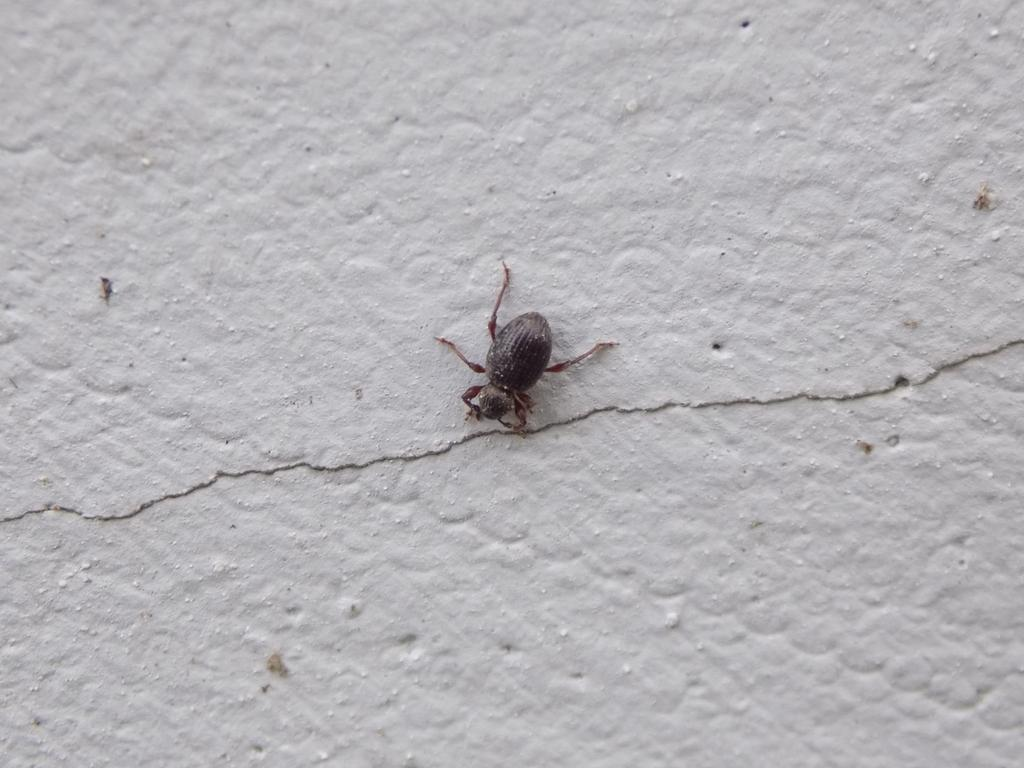weevils: (399, 232, 668, 498)
